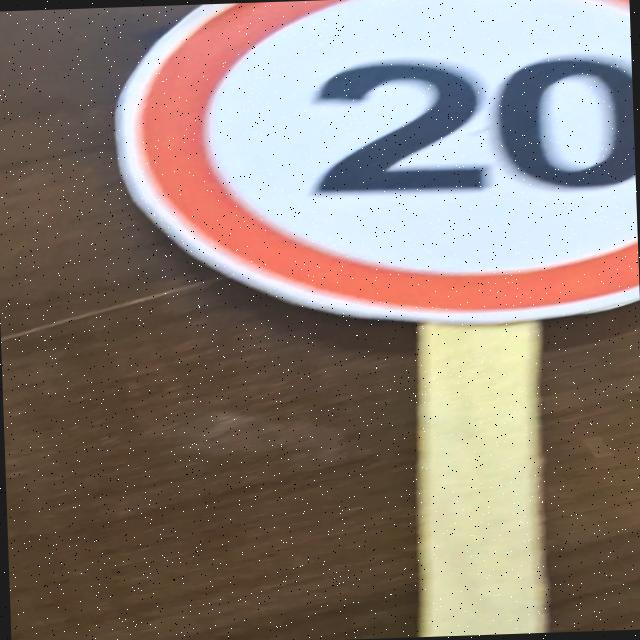Speed20: (47, 0, 640, 348)
